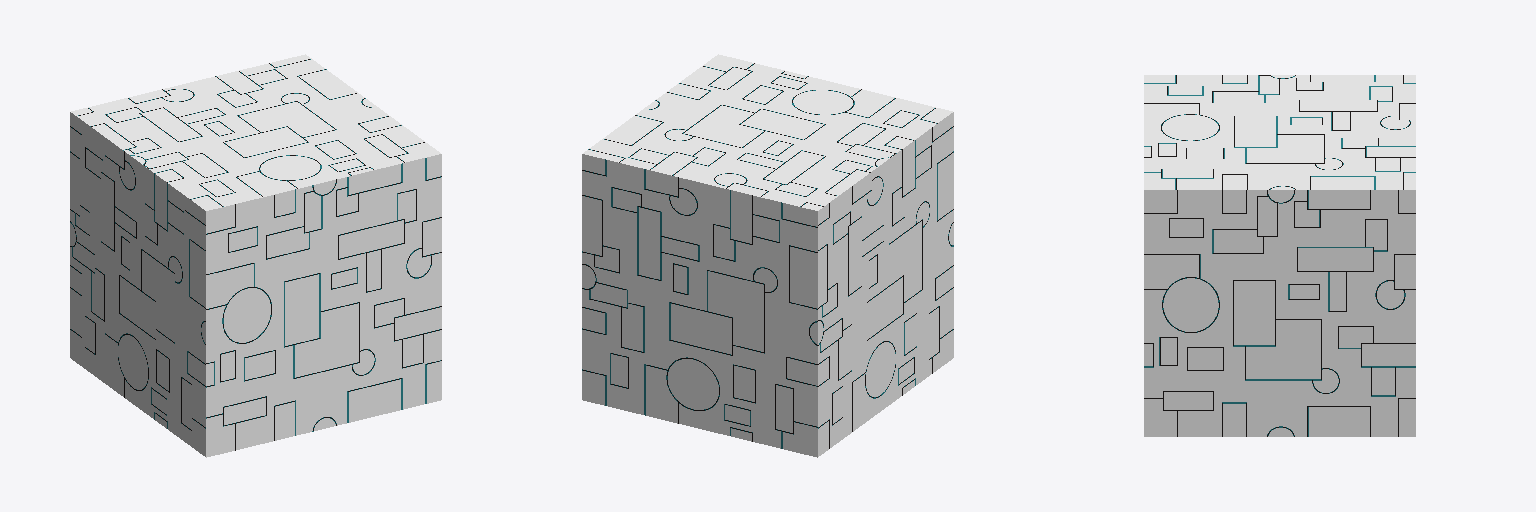
3 views of the same model, side by side, from view 1: azimuth 30°, elevation 25°; view 2: azimuth 150°, elevation 25°; view 3: azimuth 270°, elevation 25° (orthographic).
Visible parts, largest first — view 1: Cube; view 2: Cube; view 3: Cube.
Part boxes in pixels (x1,y1,x2,y2): Cube: (70, 54, 441, 457); Cube: (582, 54, 953, 457); Cube: (1144, 75, 1415, 436).
Size of the model in its own units: 200 by 200 by 200.
1 materials, 1 textured.